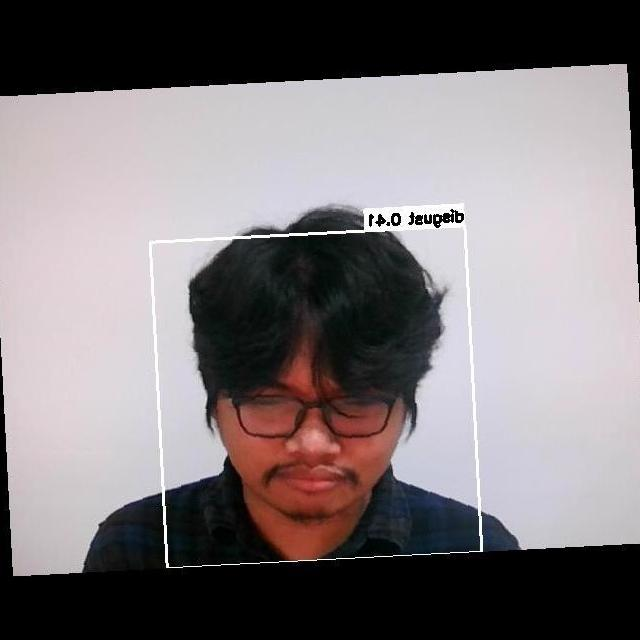Disgust: (205, 346, 426, 514)
